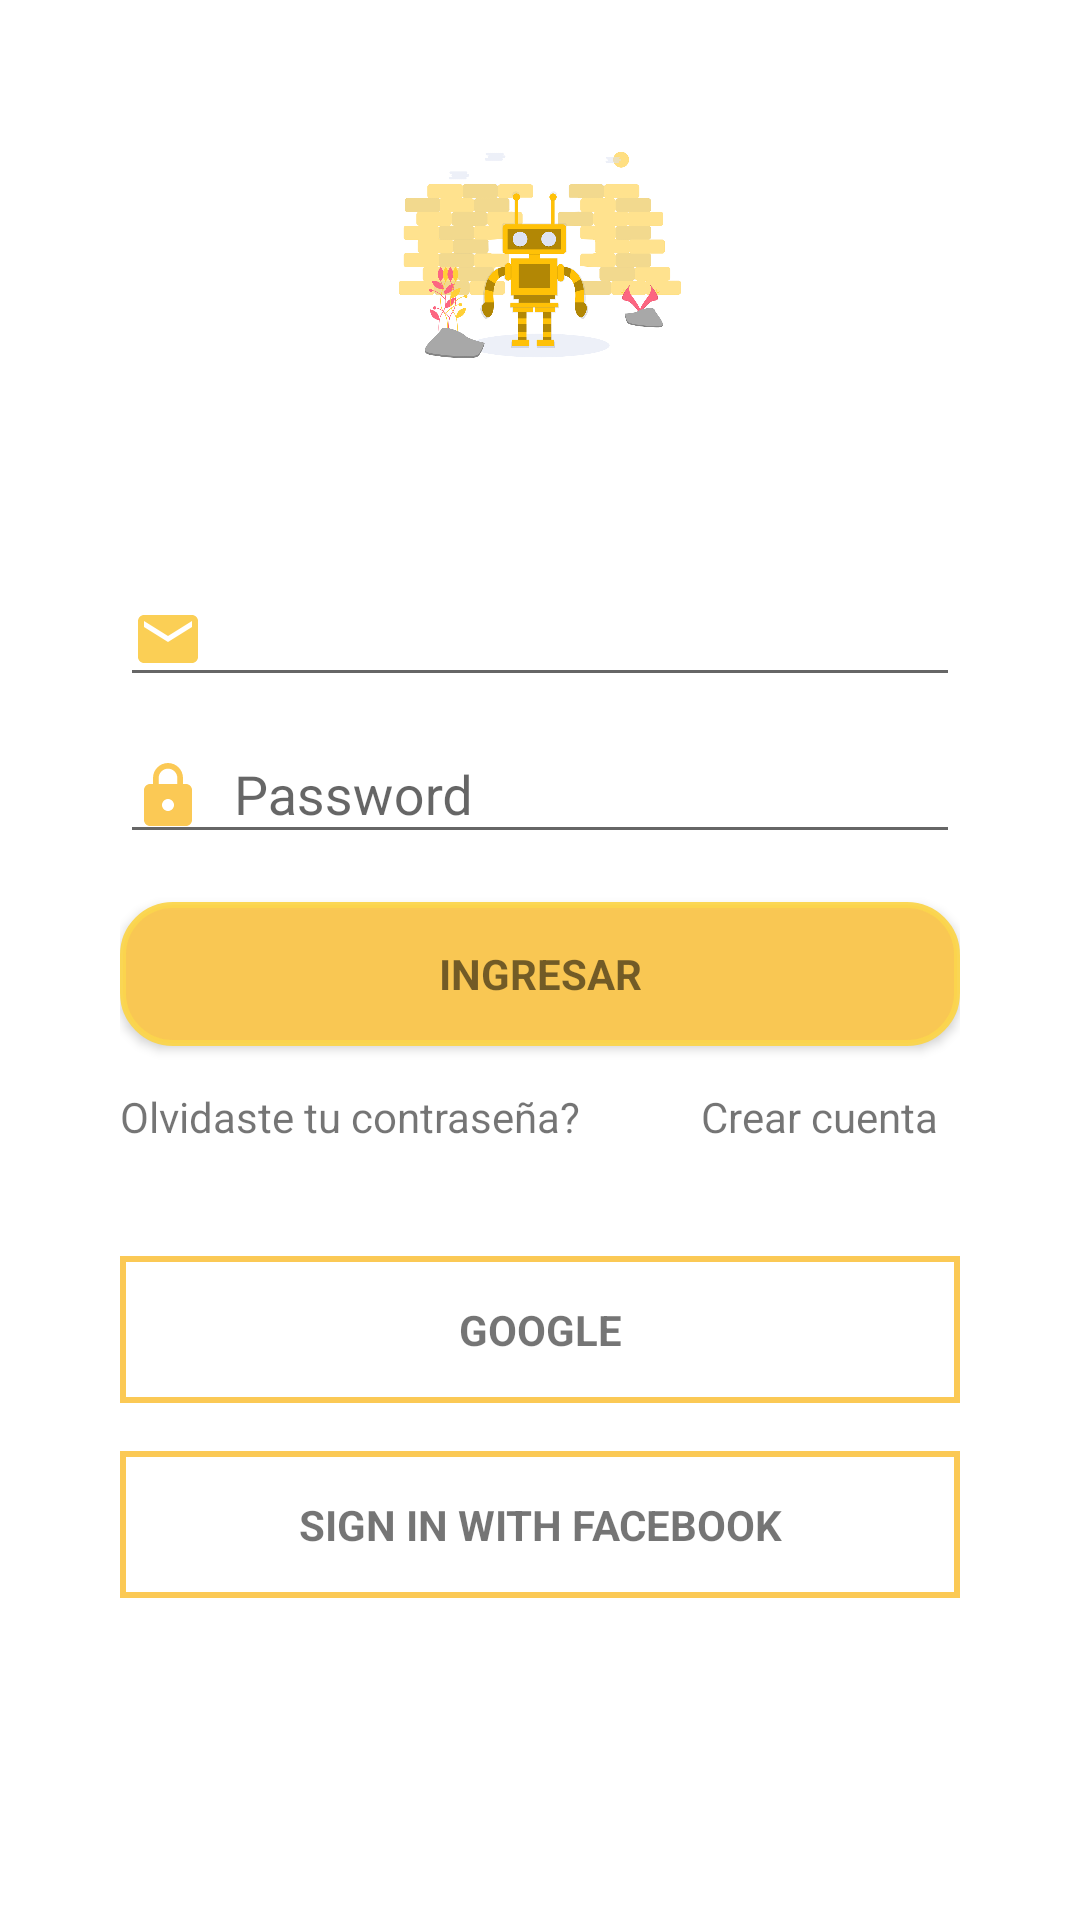

Icon bounding boxes for this 1080px×1920px phone screenshot, format (x1, y1, x2, y2):
undraw artificial intelligence upfn: (399, 152, 681, 358)
